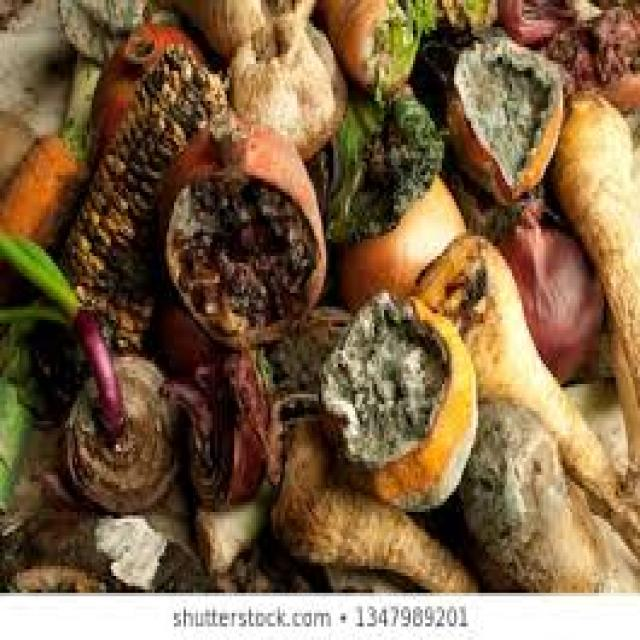organic waste: (0, 0, 638, 593), (413, 225, 638, 562), (27, 40, 227, 398), (261, 391, 476, 593), (160, 108, 323, 350), (316, 286, 476, 509), (459, 394, 637, 590), (548, 87, 638, 438), (0, 229, 118, 448), (0, 505, 299, 586), (493, 199, 606, 387), (316, 78, 442, 242), (442, 30, 560, 202), (316, 84, 442, 243), (328, 158, 464, 303), (60, 350, 182, 509), (227, 10, 345, 158), (0, 118, 85, 317), (188, 344, 266, 505), (0, 323, 63, 512), (365, 0, 488, 88), (541, 4, 638, 114), (5, 293, 84, 421), (191, 462, 278, 572), (314, 0, 413, 91), (157, 0, 321, 54), (58, 0, 181, 57), (150, 290, 229, 377), (498, 0, 638, 47), (367, 0, 437, 91), (266, 306, 343, 388), (154, 364, 220, 458), (604, 324, 638, 488), (285, 559, 427, 590), (60, 44, 96, 124), (0, 104, 34, 186)
